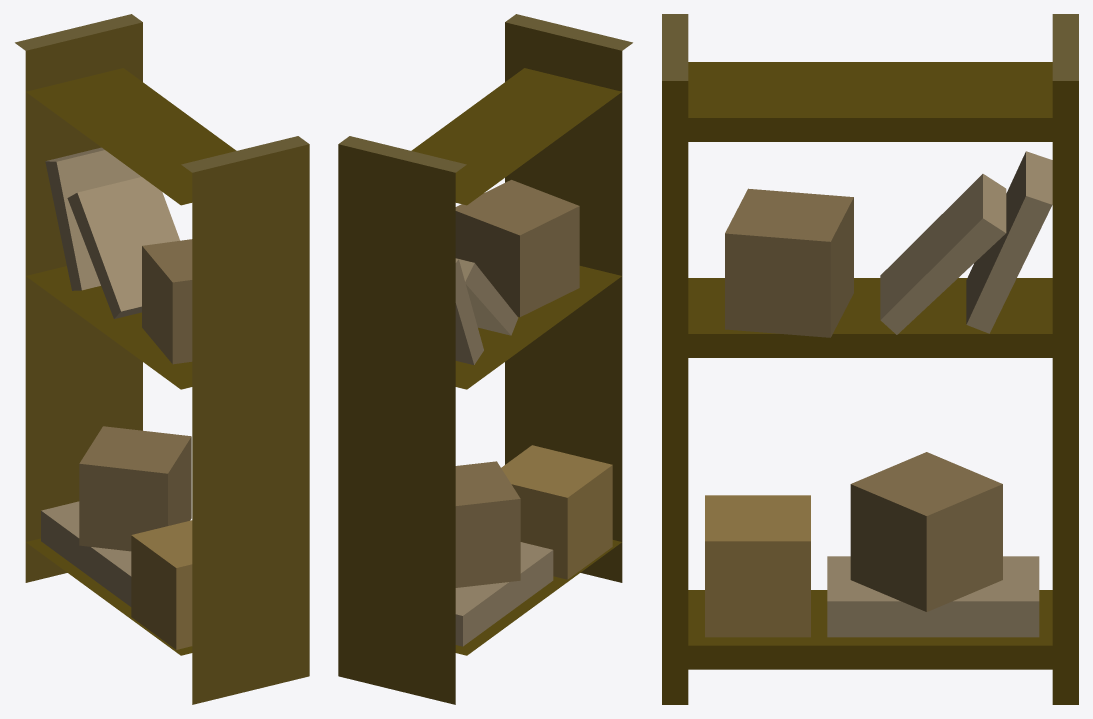
3 views of the same model, side by side, from view 1: azimuth 30°, elevation 25°; view 2: azimuth 150°, elevation 25°; view 3: azimuth 270°, elevation 25° (orthographic). The views are drawn at different scales.
Size of the model in its own units: 48 by 208 by 126.
1 material, 1 textured.
